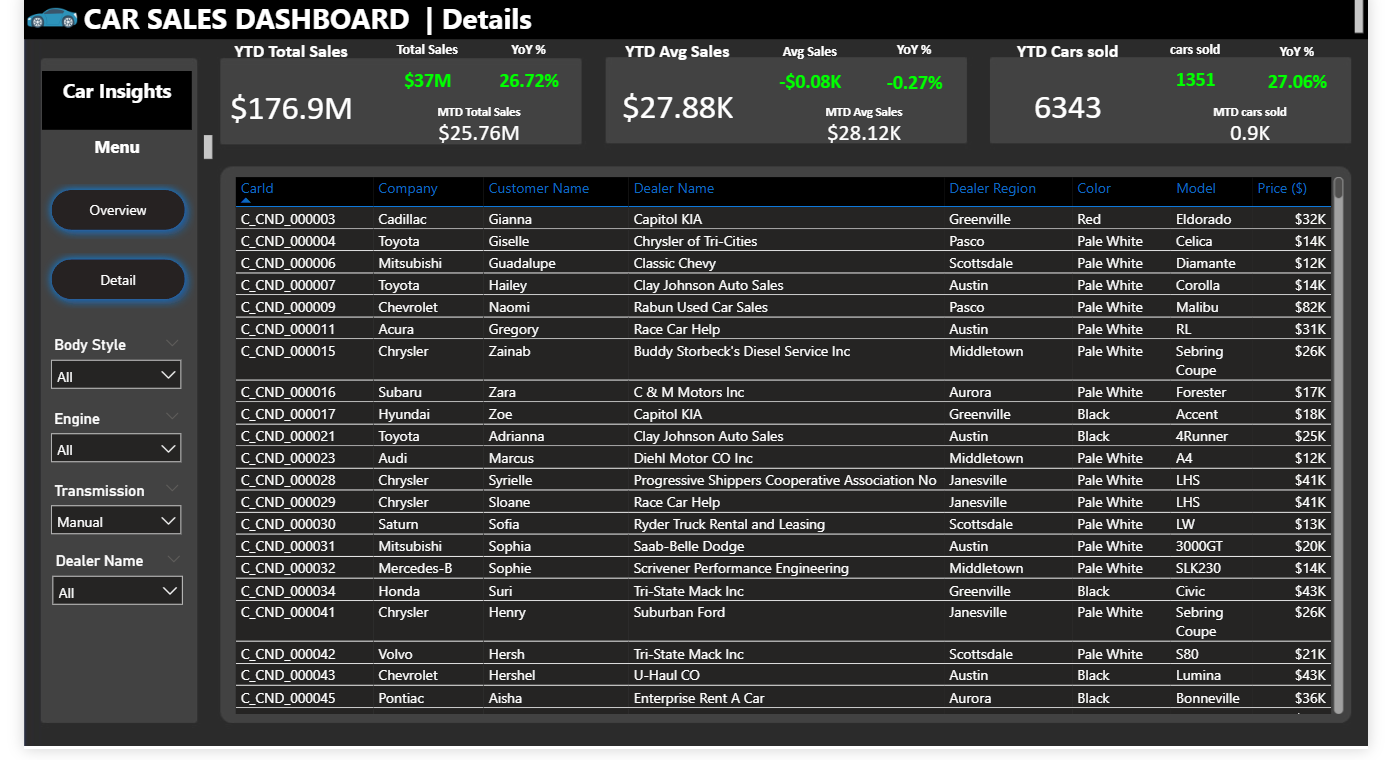

The dashboard page shown, as its layout file describes it:
{"tool":"powerbi","page":{"name":"Detail","canvas":[1280,720],"ordinal":1},"visuals":[{"type":"card","title":"YTD Total Sales","fields":{"Values":["_Measures.YTD Total Sales"]},"box":[171,43.6,166,105.6],"z":0},{"type":"card","title":"Total Sales","fields":{"Values":["_Measures.Sales Difference"]},"box":[337.7,45.4,93.9,59.1],"z":1000},{"type":"card","title":"MTD Total Sales","fields":{"Values":["_Measures.MTD Total Sales"]},"box":[337.7,106,192.3,43.9],"z":2000},{"type":"card","title":"YoY %","fields":{"Values":["_Measures.YOY_calculate"]},"box":[431.5,45.4,98.4,60.6],"z":3000},{"type":"card","title":"YTD Avg Sales","fields":{"Values":["_Measures.Avg YTD Price"]},"box":[545,43.6,155.9,104],"z":4000},{"type":"card","title":"MTD Avg Sales","fields":{"Values":["_Measures.Avg MTD"]},"box":[701.1,106,196.8,43.9],"z":5000},{"type":"card","title":"Avg Sales","fields":{"Values":["_Measures.Avg Sales diff_Show"]},"box":[701.1,46.9,93.9,59.1],"z":6000},{"type":"card","title":"YoY %","fields":{"Values":["_Measures.Avg YOY%"]},"box":[798,45.4,98.4,63.6],"z":7000},{"type":"card","title":"YTD Cars sold ","fields":{"Values":["_Measures.car sale YTD"]},"box":[918.9,43.6,150.9,104],"z":8000},{"type":"card","title":"cars sold","fields":{"Values":["_Measures.sales_coar_count_difference"]},"box":[1069.1,46,93.8,58],"z":9000},{"type":"card","title":"MTD cars sold","fields":{"Values":["_Measures.car sales MTD"]},"box":[1069.1,105.7,197.8,44.3],"z":10000},{"type":"card","title":"YoY %","fields":{"Values":["_Measures.cars sold yoy%"]},"box":[1162.9,47.7,98.9,59.7],"z":11000},{"type":"textbox","box":[0,0,1280,44.3],"z":12000},{"type":"slicer","fields":{"Values":["car_data.Body Style"]},"box":[15.7,321.4,144.3,55.7],"z":13000},{"type":"slicer","fields":{"Values":["car_data.Engine"]},"box":[15.7,391.4,144.3,55.7],"z":14000},{"type":"slicer","fields":{"Values":["car_data.Transmission"]},"box":[15.7,460,144.3,55.7],"z":15000},{"type":"slicer","fields":{"Values":["car_data.Dealer_Name"]},"box":[17.1,527.1,144.3,55.7],"z":16000},{"type":"tableEx","fields":{"Values":["car_data.Car_id","car_data.Company","car_data.Customer Name","car_data.Dealer_Name","car_data.Dealer_Region","car_data.Color","car_data.Model","car_data.Price ($)"]},"box":[195.7,170,1065.7,521.4],"z":17000},{"type":"pageNavigator","box":[17.1,178.6,145.7,122.9],"z":18000},{"type":"textbox","box":[0,130,184.3,40],"z":19000},{"type":"image","box":[0,0,54.3,47.1],"z":20000},{"type":"textbox","box":[17.1,74.3,142.9,55.7],"z":20001}]}

Visuals, with their boxes in screenshot pixels (x1, y1, x2, y2), scaled from the page's 1280x720 canvas onto the 1391x760 screenshot:
"YTD Total Sales" card: box(186, 46, 366, 157)
"Total Sales" card: box(367, 48, 469, 110)
"MTD Total Sales" card: box(367, 112, 576, 158)
"YoY %" card: box(469, 48, 576, 112)
"YTD Avg Sales" card: box(592, 46, 762, 156)
"MTD Avg Sales" card: box(762, 112, 976, 158)
"Avg Sales" card: box(762, 50, 864, 112)
"YoY %" card: box(867, 48, 974, 115)
"YTD Cars sold " card: box(999, 46, 1163, 156)
"cars sold" card: box(1162, 49, 1264, 110)
"MTD cars sold" card: box(1162, 112, 1377, 158)
"YoY %" card: box(1264, 50, 1371, 113)
textbox: box(0, 0, 1390, 47)
slicer - car_data.Body Style: box(17, 339, 174, 398)
slicer - car_data.Engine: box(17, 413, 174, 472)
slicer - car_data.Transmission: box(17, 486, 174, 544)
slicer - car_data.Dealer_Name: box(19, 556, 175, 615)
tableEx - car_data.Car_id x car_data.Company: box(213, 179, 1371, 730)
pageNavigator: box(19, 189, 177, 318)
textbox: box(0, 137, 200, 179)
image: box(0, 0, 59, 50)
textbox: box(19, 78, 174, 137)
